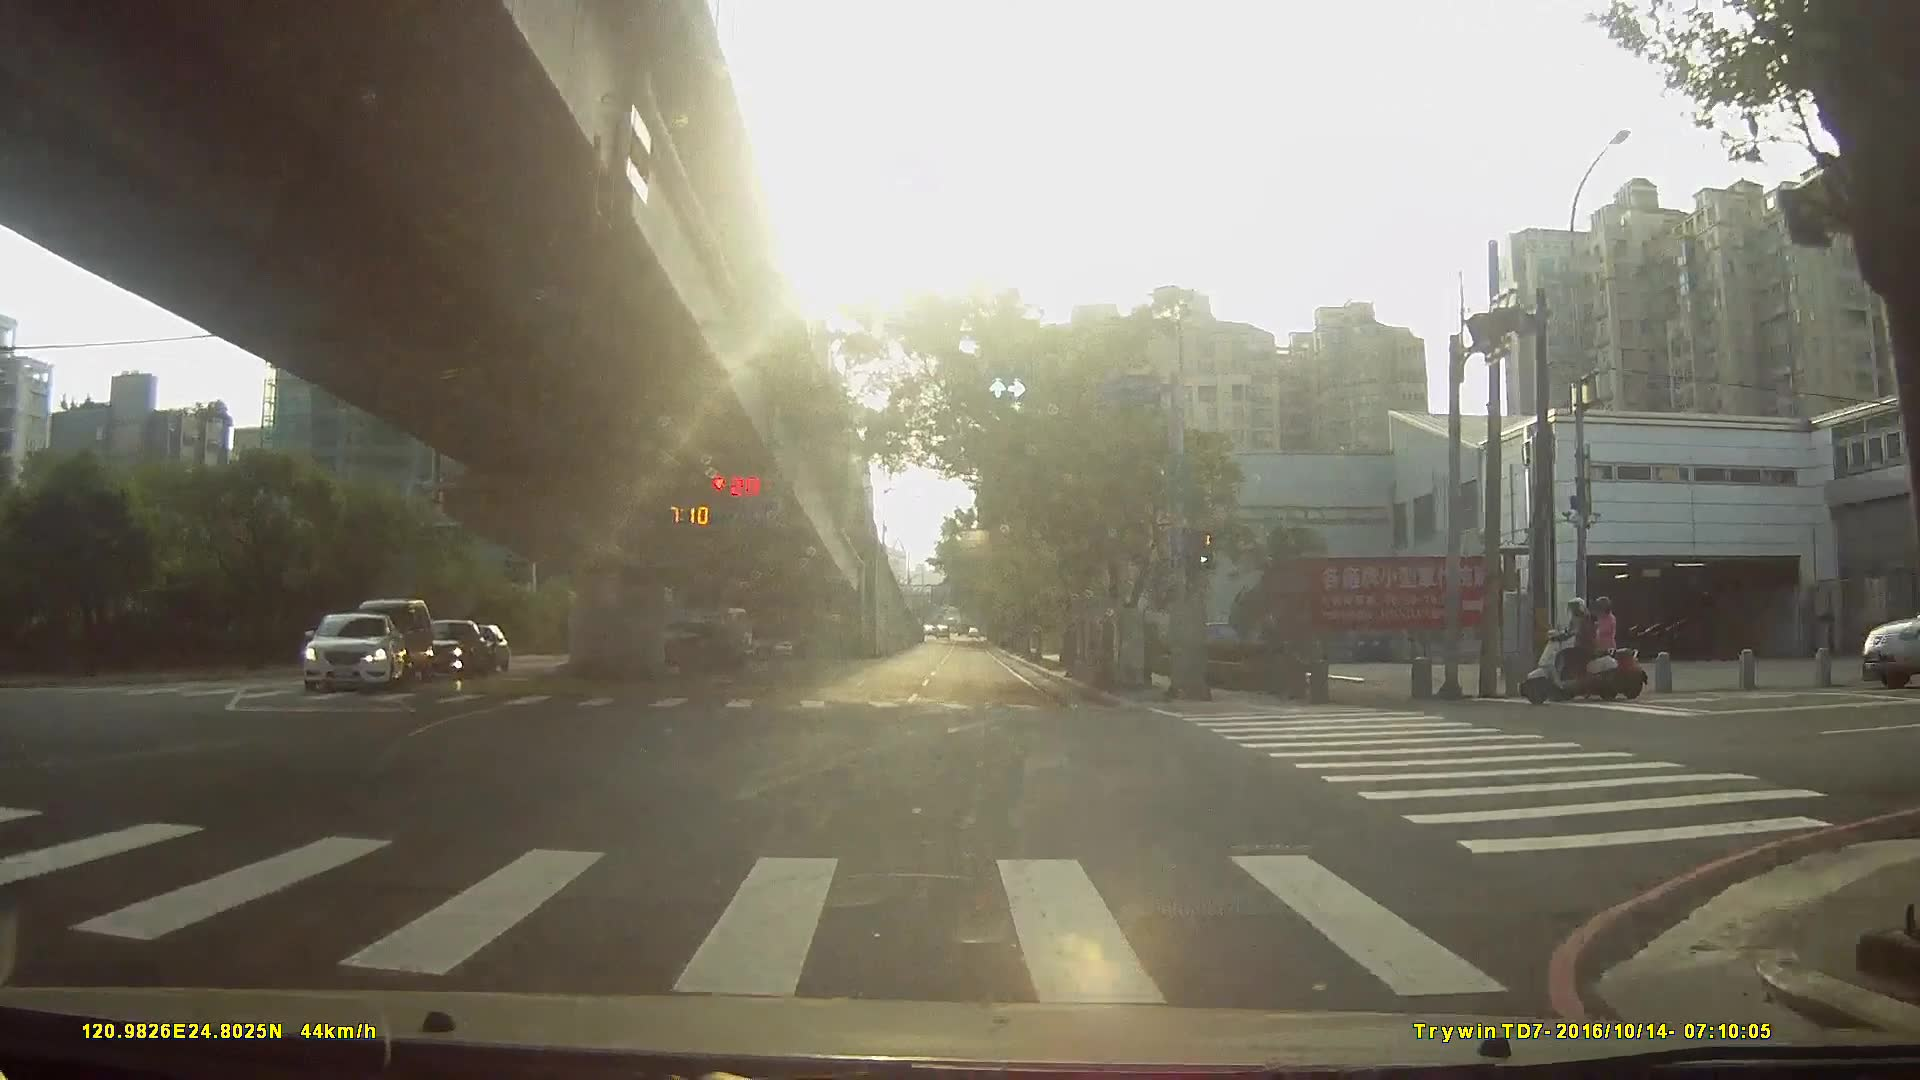rider: (1519, 595, 1620, 702)
vehicle: (291, 612, 400, 695), (345, 596, 426, 684), (633, 617, 750, 676), (405, 616, 487, 679)
